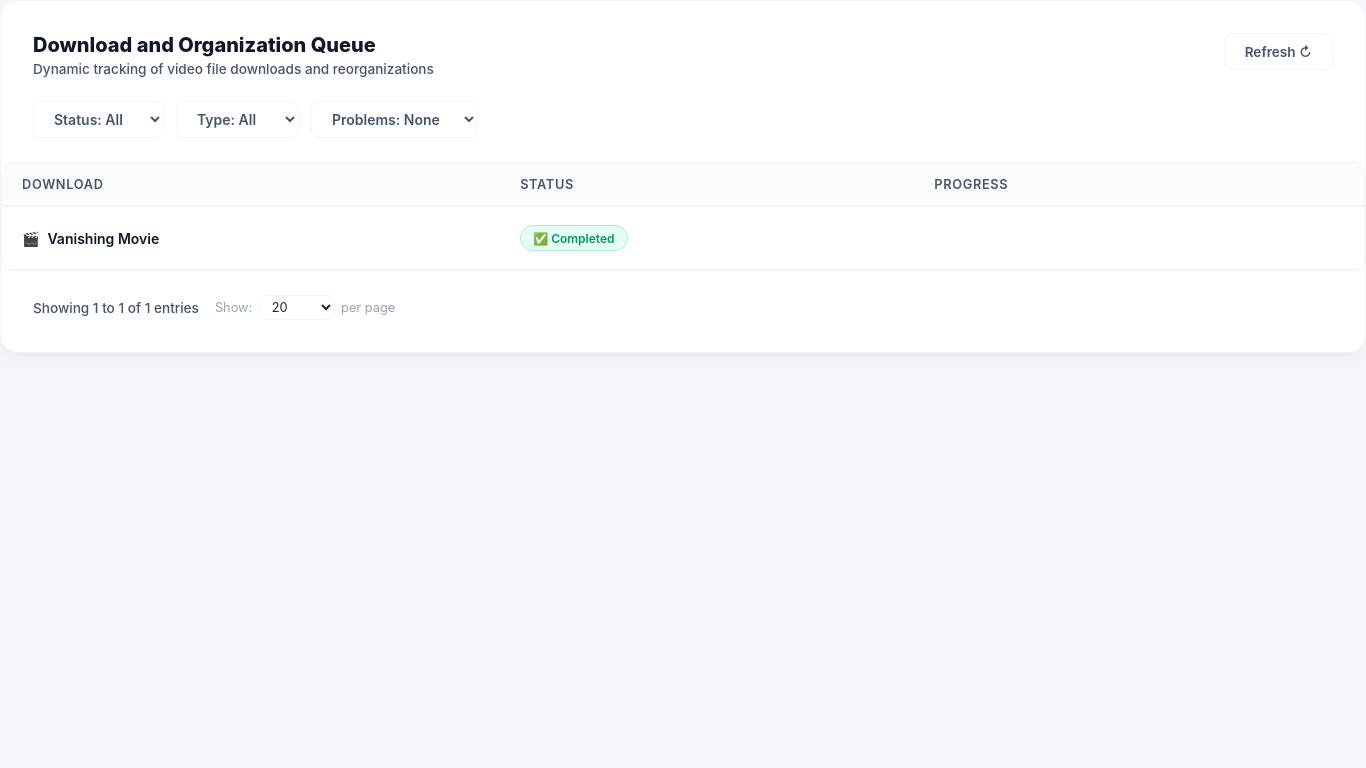
it: DownloadsTab sidepanel › closes the drawer automatically when the selected item leaves the downloads list
Click the text "🎬Vanishing Movie" at (251, 239), box left=2, top=207, right=500, bottom=270
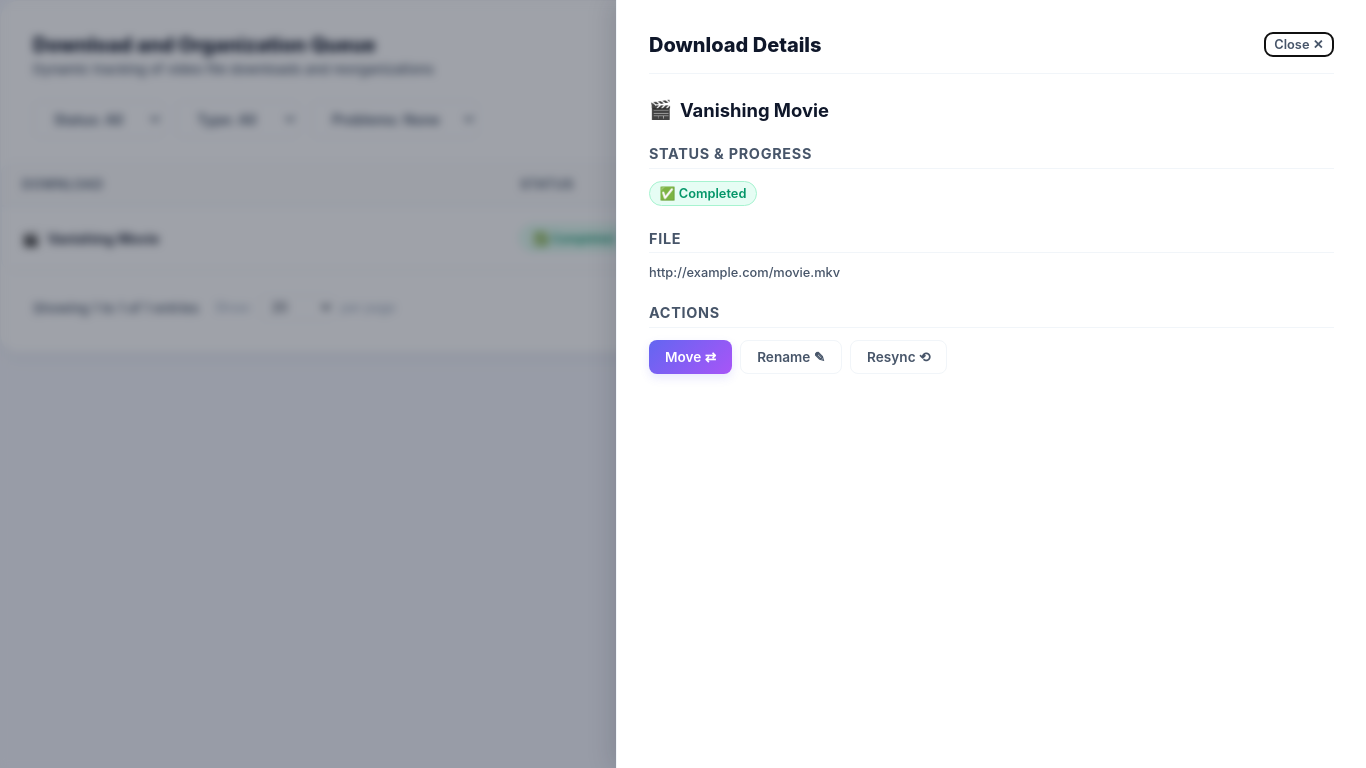
expect the heading "Download Details" is shown: met, box left=649, top=32, right=822, bottom=56
